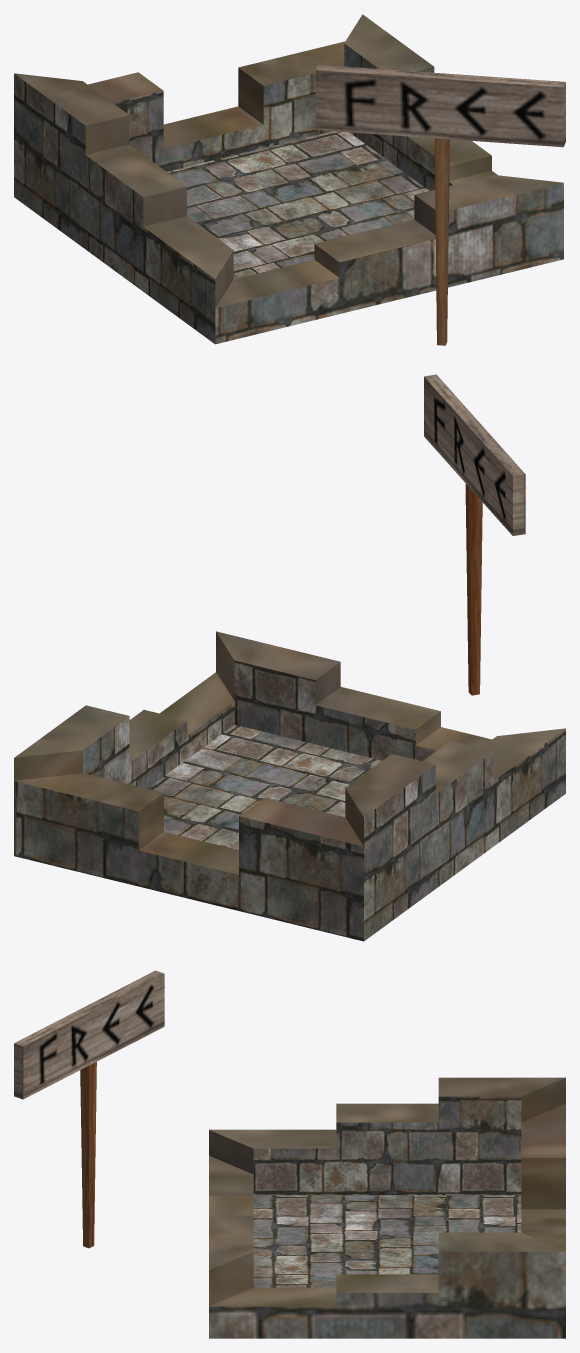
Rendered from Empty.fbx.
The picture shows the model from 3 angles, top to bottom: view 1: azimuth 30°, elevation 25°; view 2: azimuth 150°, elevation 25°; view 3: azimuth 270°, elevation 25°; orthographic projection. The views are drawn at different scales.
Visible parts, largest first — view 1: Cube; view 2: Cube; view 3: Cube.
Part boxes in pixels (left/top/right/bottom): Cube: left=14, top=14, right=565, bottom=345; Cube: left=14, top=374, right=565, bottom=941; Cube: left=14, top=970, right=565, bottom=1338.
Bounding box in the file's own units: 200 × 153 × 309.
